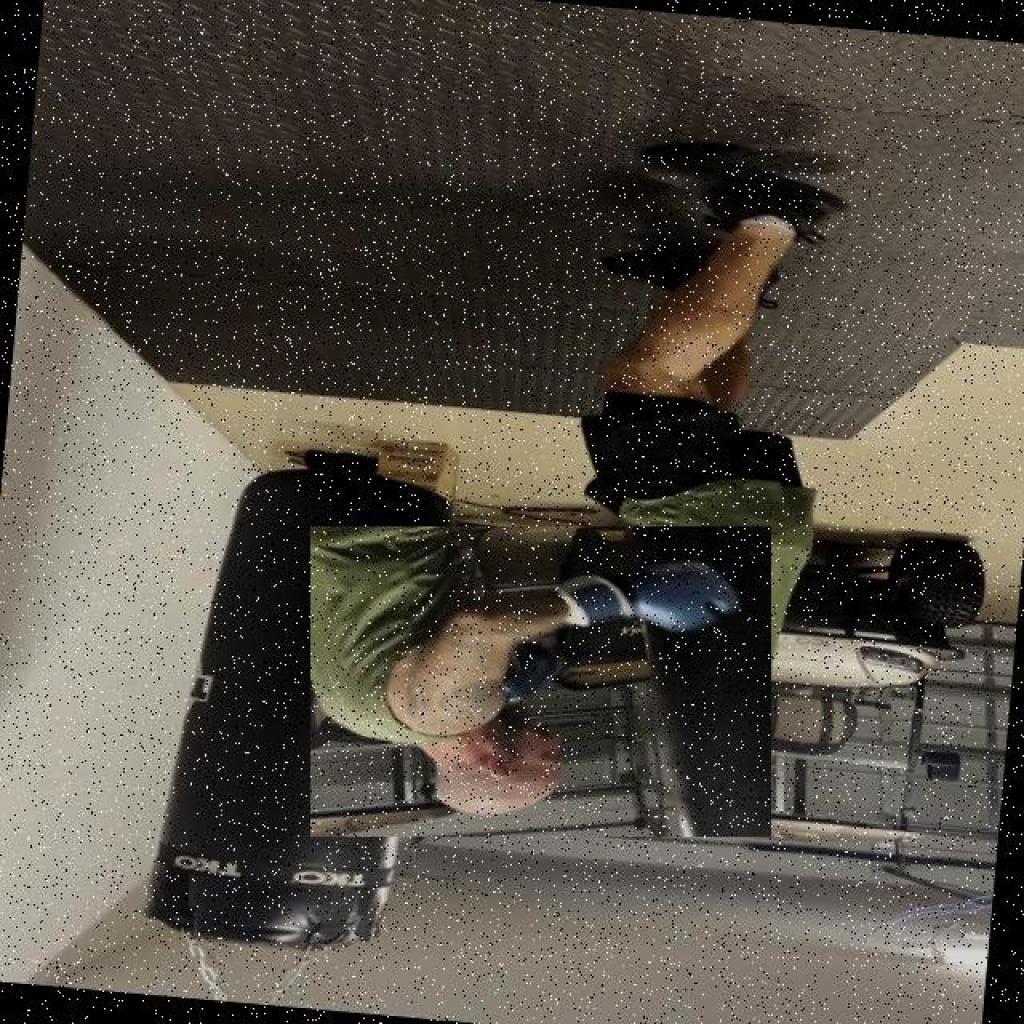bag: (170, 451, 452, 971)
hook: (310, 526, 770, 837)
